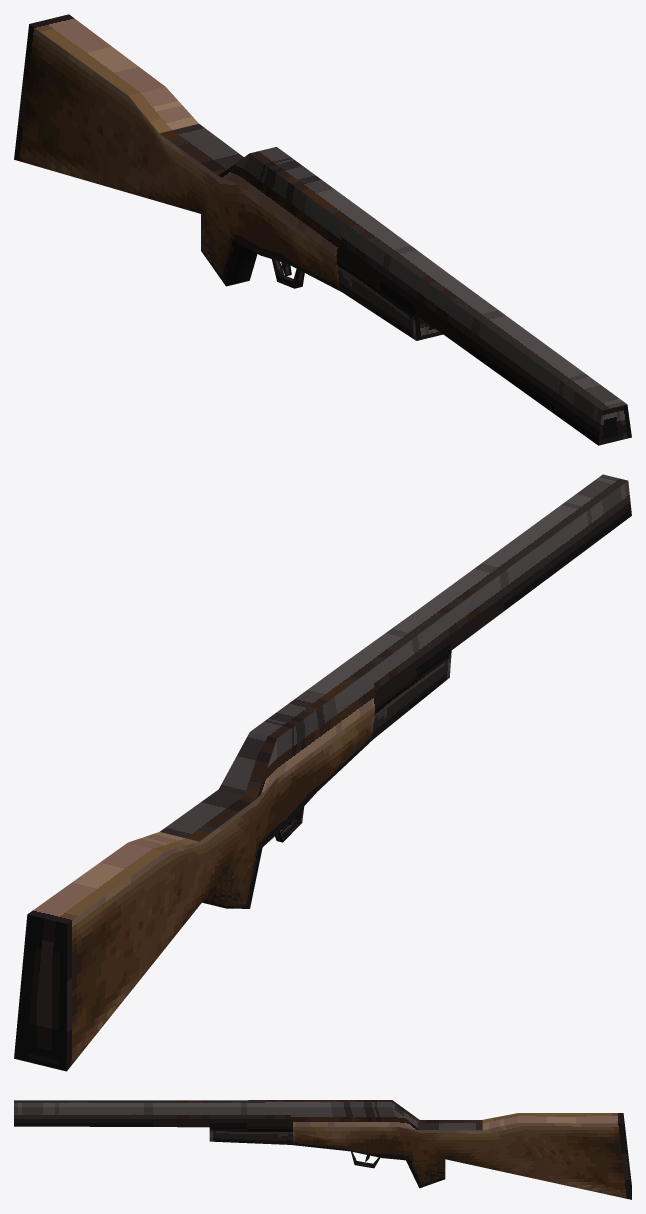
Rendered from shotgun.glb.
The picture shows the model from 3 angles, top to bottom: view 1: azimuth 30°, elevation 25°; view 2: azimuth 150°, elevation 25°; view 3: azimuth 270°, elevation 25°; orthographic projection. The views are drawn at different scales.
Parts seen in each view (by area): view 1: gun3; view 2: gun3; view 3: gun3.
Boxes of the visible parts, <box> form: gun3: <box>14,14,631,445</box>; gun3: <box>14,474,631,1071</box>; gun3: <box>14,1100,631,1199</box>.
Bounding box in the file's own units: 0.3173 × 0.9573 × 6.
1 material, 1 textured.
